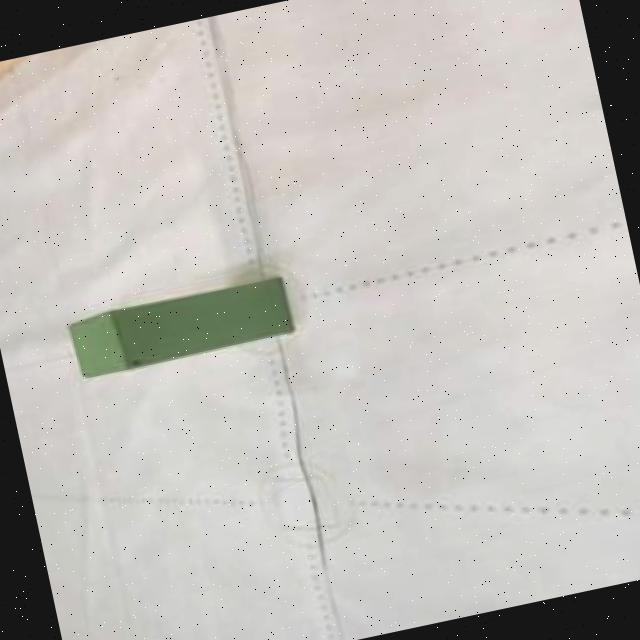greenbox: (66, 273, 294, 376)
